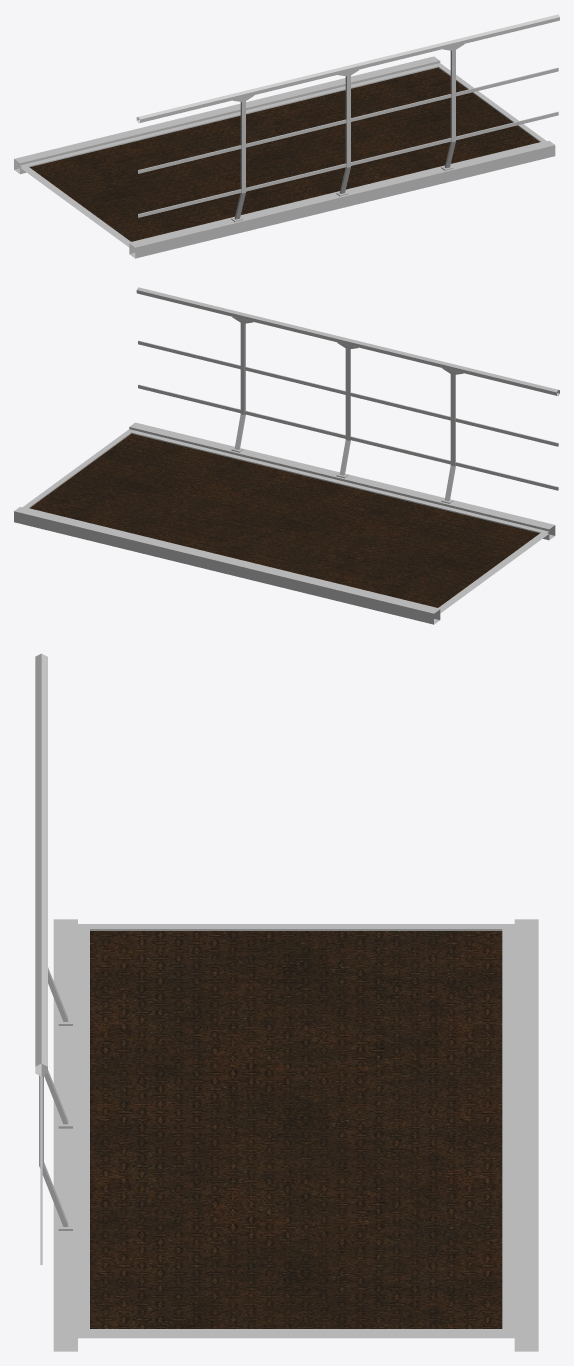
The model's file is catwalk_1.fbx.
3 renders of one model, top to bottom at view 1: azimuth 30°, elevation 25°; view 2: azimuth 150°, elevation 25°; view 3: azimuth 270°, elevation 25°, orthographic. The views are drawn at different scales.
Visible parts, largest first — view 1: catwalk_1, handrail_4; view 2: catwalk_1, handrail_4; view 3: catwalk_1, handrail_4.
Boxes of the visible parts, x1,y1,x2,y2 form: catwalk_1: [14, 56, 555, 258]; handrail_4: [136, 14, 559, 221]; catwalk_1: [14, 422, 555, 624]; handrail_4: [136, 287, 559, 503]; catwalk_1: [53, 919, 538, 1351]; handrail_4: [35, 653, 72, 1264].
Size of the model in its own units: 4 by 1.31 by 2.08.
